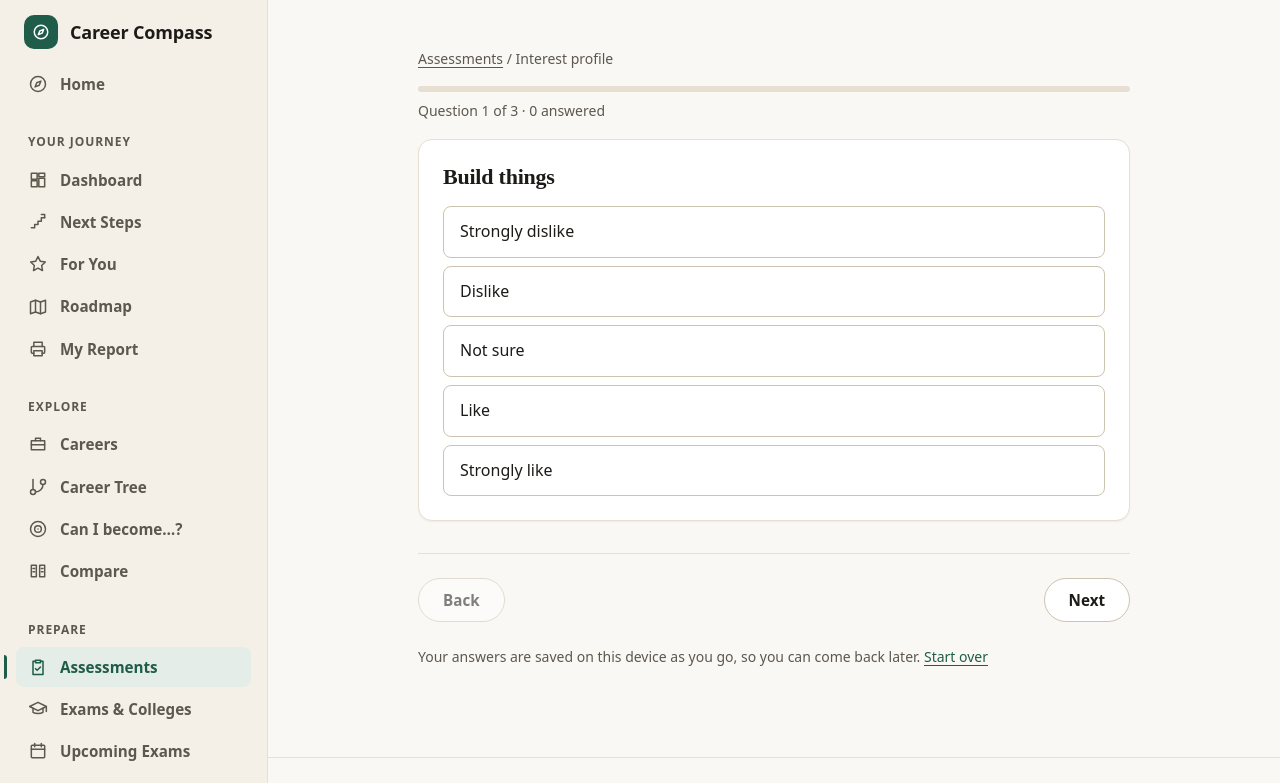
Test: Taking a test › does not submit a rating test with unanswered questions
Check: the heading "Build things" is shown, box [443,164,555,189]
Click the button "Next": (1087, 600) [1044,578,1130,622]
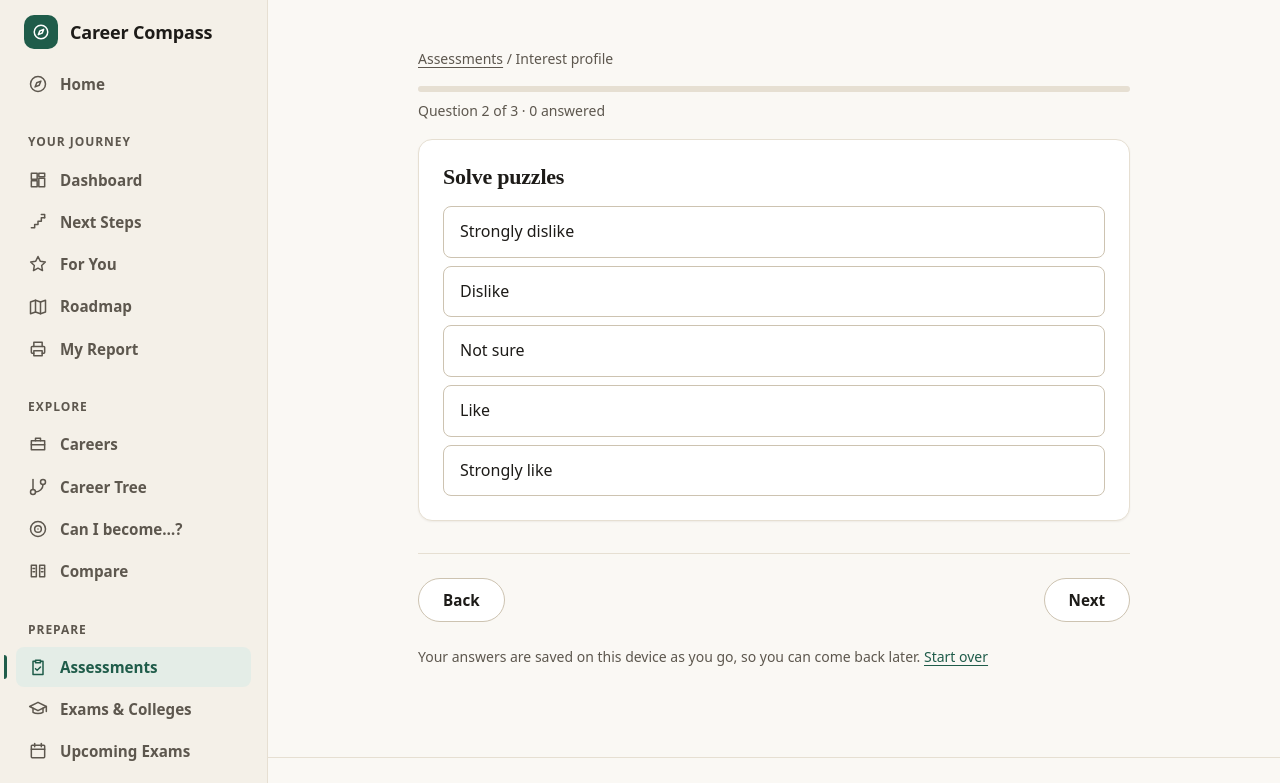
Click the button "Next": (1087, 600) [1044,578,1130,622]
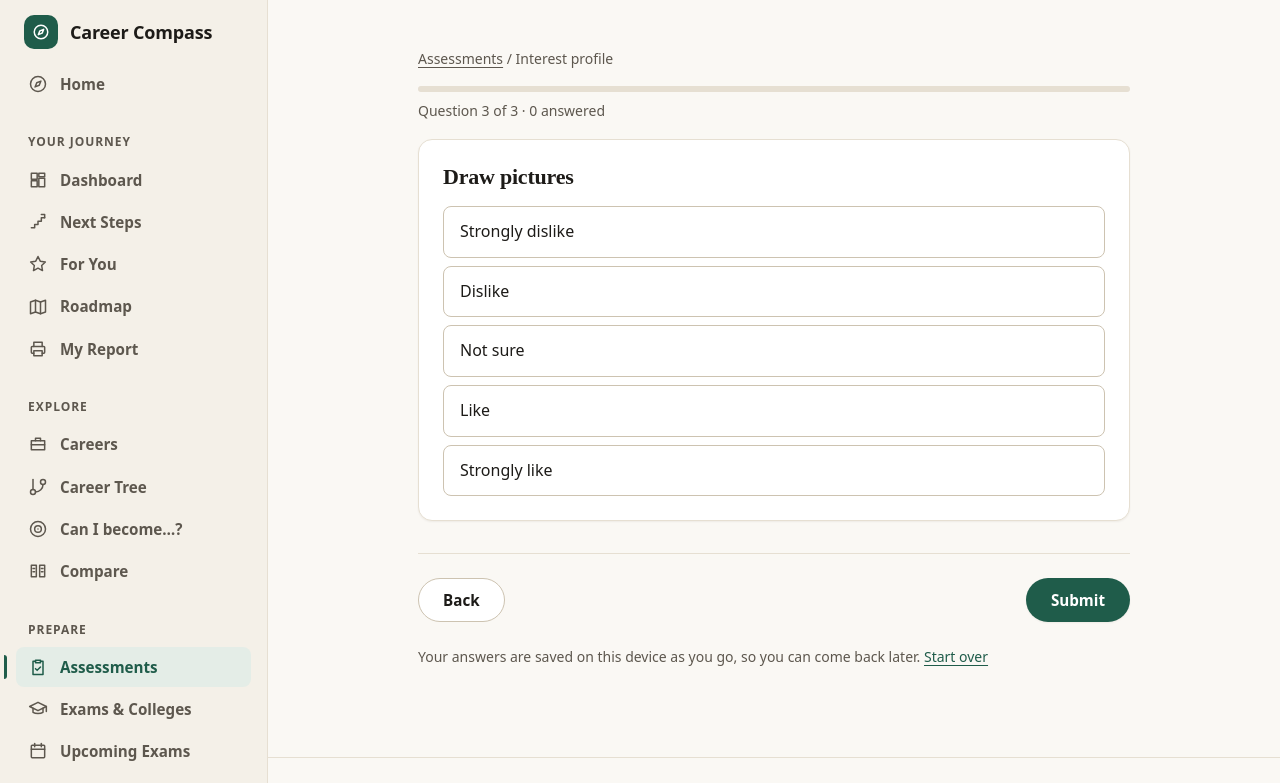
Click the button "Submit": (1078, 600) [1026,578,1130,622]
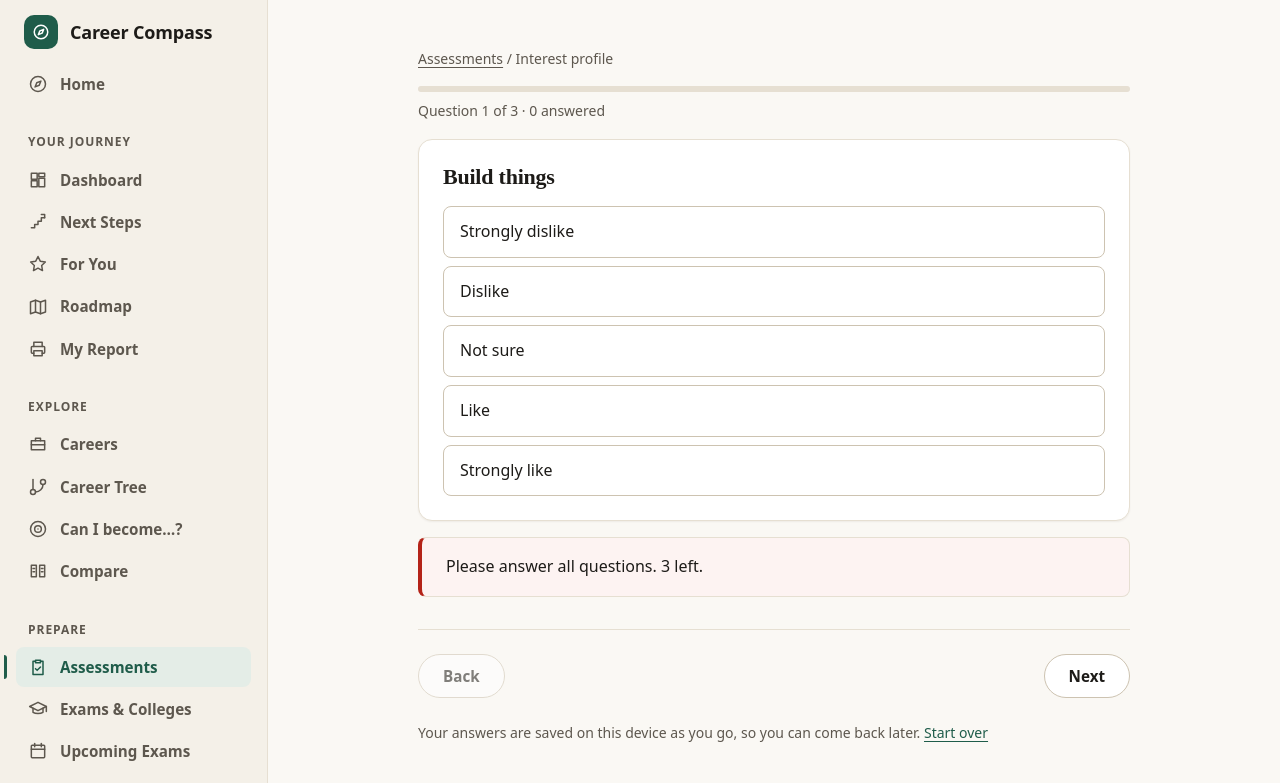
Check: the message shows "3 left", box [446,555,703,577]
Check: the heading "Build things" is shown, box [443,164,555,189]
